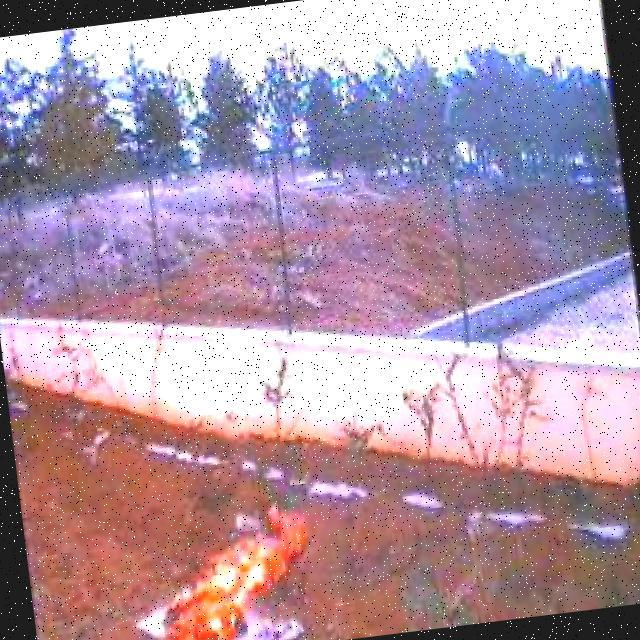Fire: (135, 497, 326, 640)
